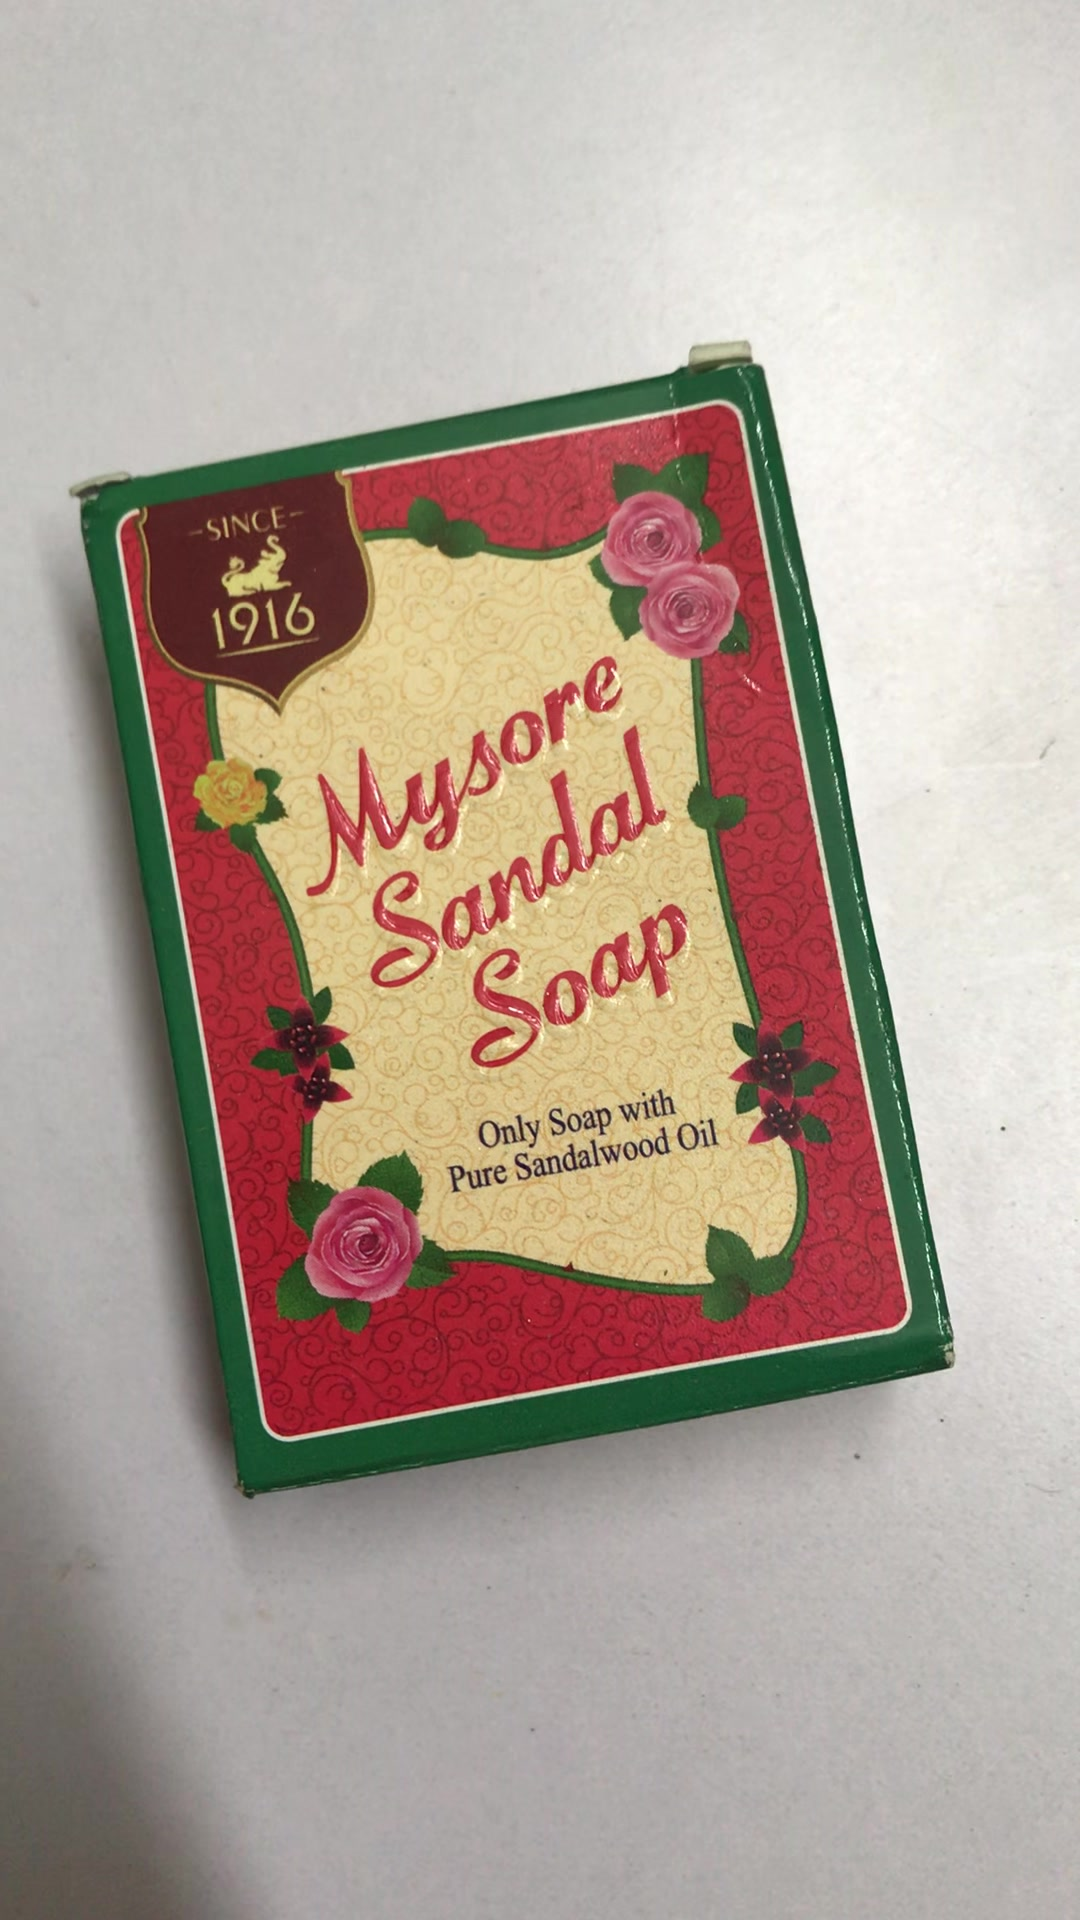mysore sandal soap: (78, 365, 957, 1501)
